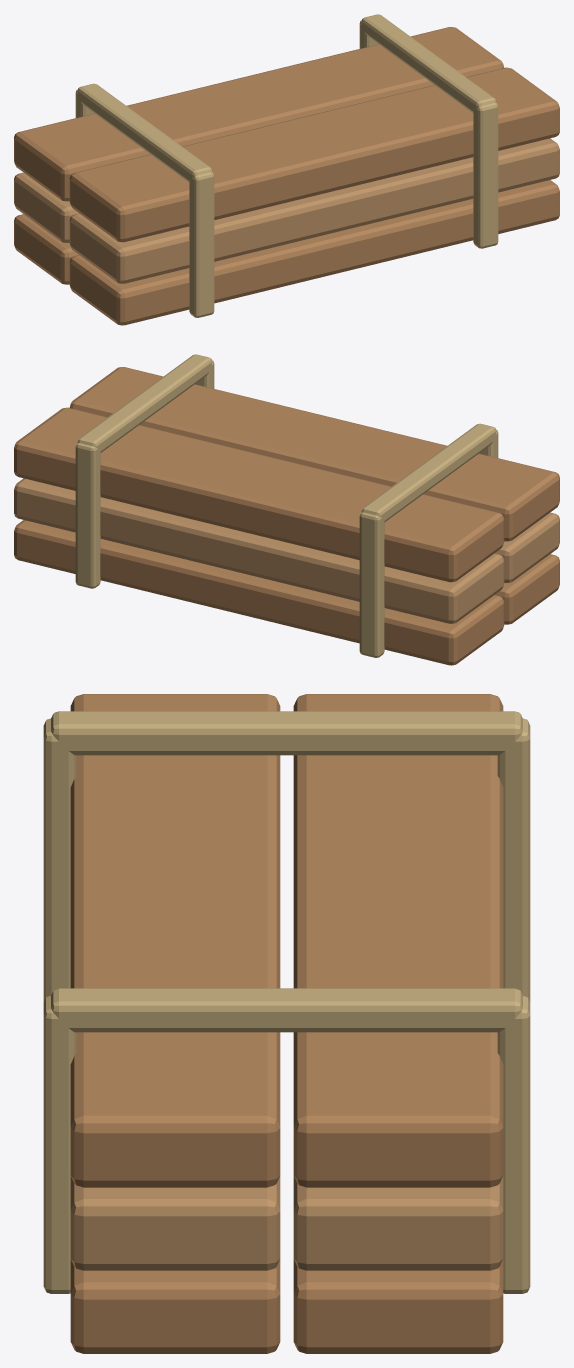
The model's file is carry_planks.glb.
The picture shows the model from 3 angles, top to bottom: view 1: azimuth 30°, elevation 25°; view 2: azimuth 150°, elevation 25°; view 3: azimuth 270°, elevation 25°; orthographic projection. The views are drawn at different scales.
Visible parts, largest first — view 1: carry_planks; view 2: carry_planks; view 3: carry_planks.
Boxes of the visible parts, <box> form: carry_planks: <box>14,14,559,325</box>; carry_planks: <box>14,354,559,665</box>; carry_planks: <box>43,694,530,1353</box>.
Size of the model in its own units: 0.78 by 0.246 by 0.371.
